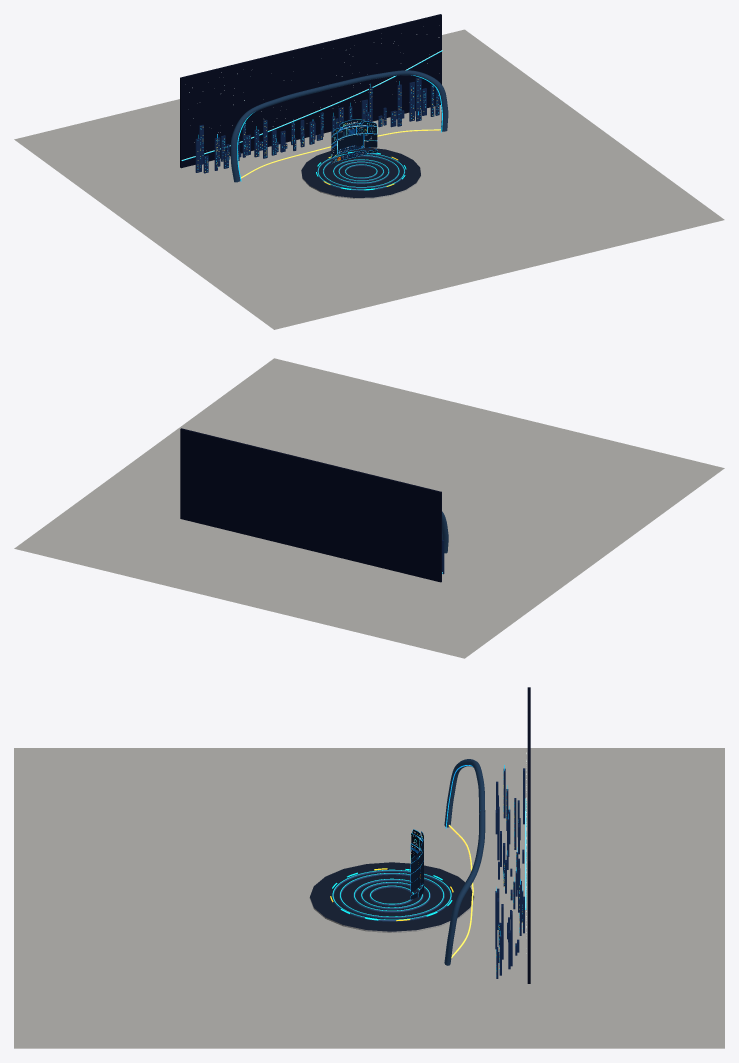
The picture shows the model from 3 angles, top to bottom: view 1: azimuth 30°, elevation 25°; view 2: azimuth 150°, elevation 25°; view 3: azimuth 270°, elevation 25°; orthographic projection. The views are drawn at different scales.
Visible parts, largest first — view 1: site_lwj0zqykzu86gb0n, part_obloha, part_panorama_slot_m_sto, slab_0002purcvzyi3sb0, part_průzor_slot_pr_zor, part_lišty_slot_steel, part_diody_slot_blue; view 2: site_lwj0zqykzu86gb0n, part_obloha; view 3: site_lwj0zqykzu86gb0n, slab_0002purcvzyi3sb0, part_panorama_slot_m_sto, part_lišty_slot_steel, part_průzor_slot_pr_zor, part_obloha, part_diody_slot_blue.
Part boxes in pixels (bbox=[...]): site_lwj0zqykzu86gb0n: bbox=[14, 29, 724, 329]; part_obloha: bbox=[180, 14, 442, 168]; part_panorama_slot_m_sto: bbox=[195, 77, 439, 173]; slab_0002purcvzyi3sb0: bbox=[301, 147, 421, 198]; part_průzor_slot_pr_zor: bbox=[230, 70, 448, 182]; part_lišty_slot_steel: bbox=[317, 153, 405, 190]; part_diody_slot_blue: bbox=[316, 151, 406, 190]; site_lwj0zqykzu86gb0n: bbox=[14, 358, 724, 658]; part_obloha: bbox=[180, 428, 442, 582]; site_lwj0zqykzu86gb0n: bbox=[14, 748, 724, 1048]; slab_0002purcvzyi3sb0: bbox=[309, 862, 474, 932]; part_panorama_slot_m_sto: bbox=[495, 768, 525, 978]; part_lišty_slot_steel: bbox=[332, 870, 451, 921]; part_průzor_slot_pr_zor: bbox=[444, 759, 485, 965]; part_obloha: bbox=[525, 687, 530, 983]; part_diody_slot_blue: bbox=[332, 869, 452, 920].
Bounding box in the file's own units: 30 × 5.77 × 30.
